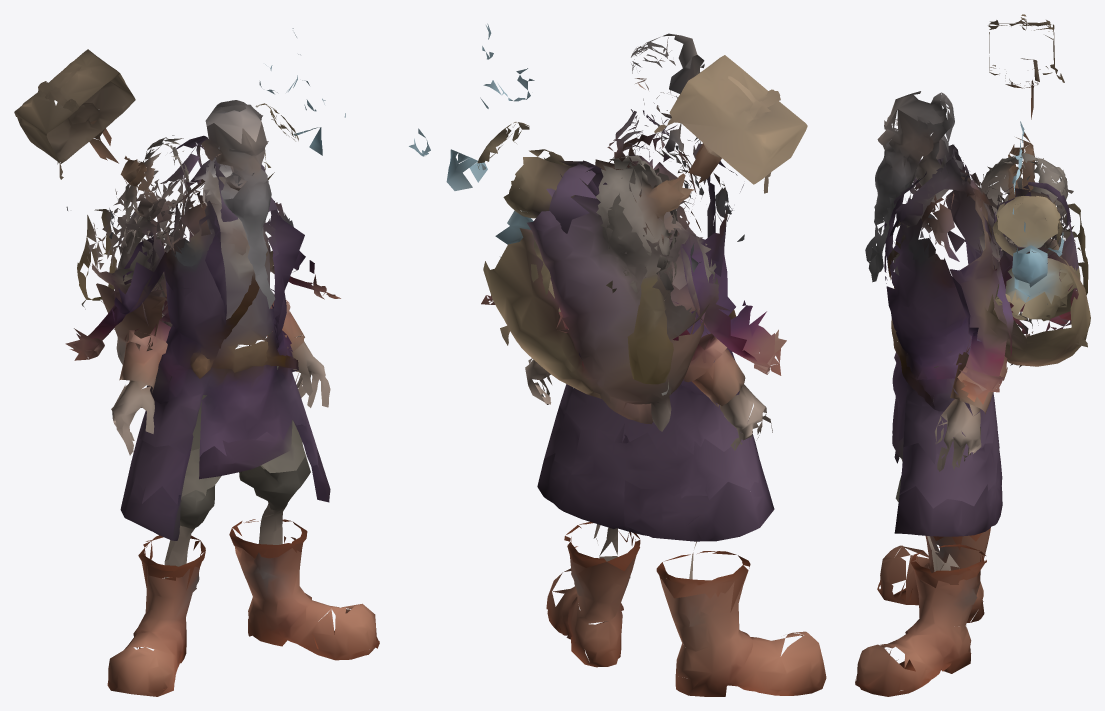
Rendered from otto.glb.
3 views of the same model, side by side, from view 1: azimuth 30°, elevation 25°; view 2: azimuth 150°, elevation 25°; view 3: azimuth 270°, elevation 25° (orthographic). The views are drawn at different scales.
Visible parts, largest first — view 1: torso, shinR, hips, shinL, thighL, thighR, foreL, armL, foreR, head; view 2: torso, shinL, hips, thighL, shinR, armR, armL, thighR, foreL, foreR, head; view 3: torso, shinR, thighR, armL, hips, armR, foreR, shinL, head.
Boxes of the visible parts, x1,y1,x2,y2 form: torso: [14, 28, 345, 456]; shinR: [234, 536, 379, 660]; hips: [131, 412, 318, 505]; shinL: [107, 560, 199, 696]; thighL: [120, 462, 215, 589]; thighR: [229, 448, 330, 558]; foreL: [111, 288, 170, 455]; armL: [105, 135, 254, 253]; foreR: [267, 294, 330, 407]; head: [205, 100, 262, 143]; torso: [409, 23, 807, 455]; shinL: [661, 573, 826, 696]; hips: [544, 405, 763, 499]; thighL: [624, 461, 774, 612]; shinR: [546, 546, 636, 667]; armR: [495, 82, 669, 294]; armL: [596, 110, 700, 292]; thighR: [537, 453, 640, 571]; foreL: [666, 292, 772, 450]; foreR: [500, 257, 568, 404]; head: [631, 33, 697, 68]; torso: [865, 14, 1090, 464]; shinR: [855, 554, 981, 696]; thighR: [894, 463, 1002, 587]; armL: [885, 132, 1078, 259]; hips: [892, 399, 999, 508]; armR: [894, 171, 1080, 304]; foreR: [935, 289, 1073, 471]; shinL: [877, 529, 989, 622]; head: [891, 91, 952, 124].
Size of the model in its own units: 0.5726 by 0.9997 by 0.3714.
